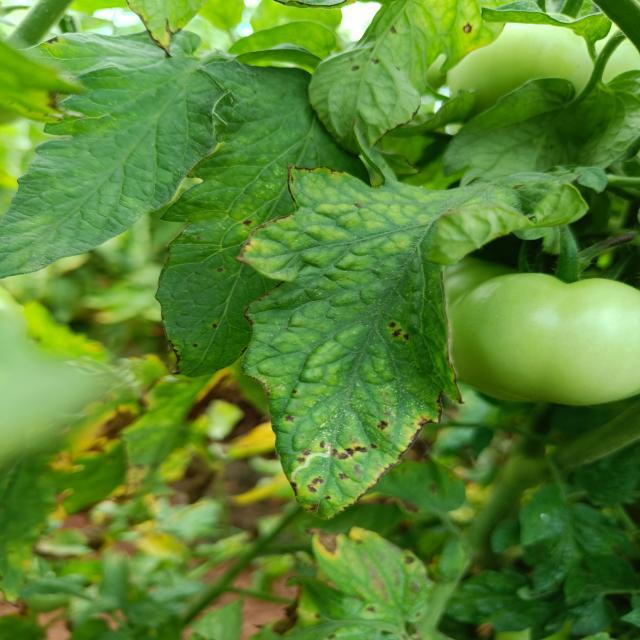Tomato mosaic virus leaf: (229, 276, 470, 540), (152, 193, 290, 381)
